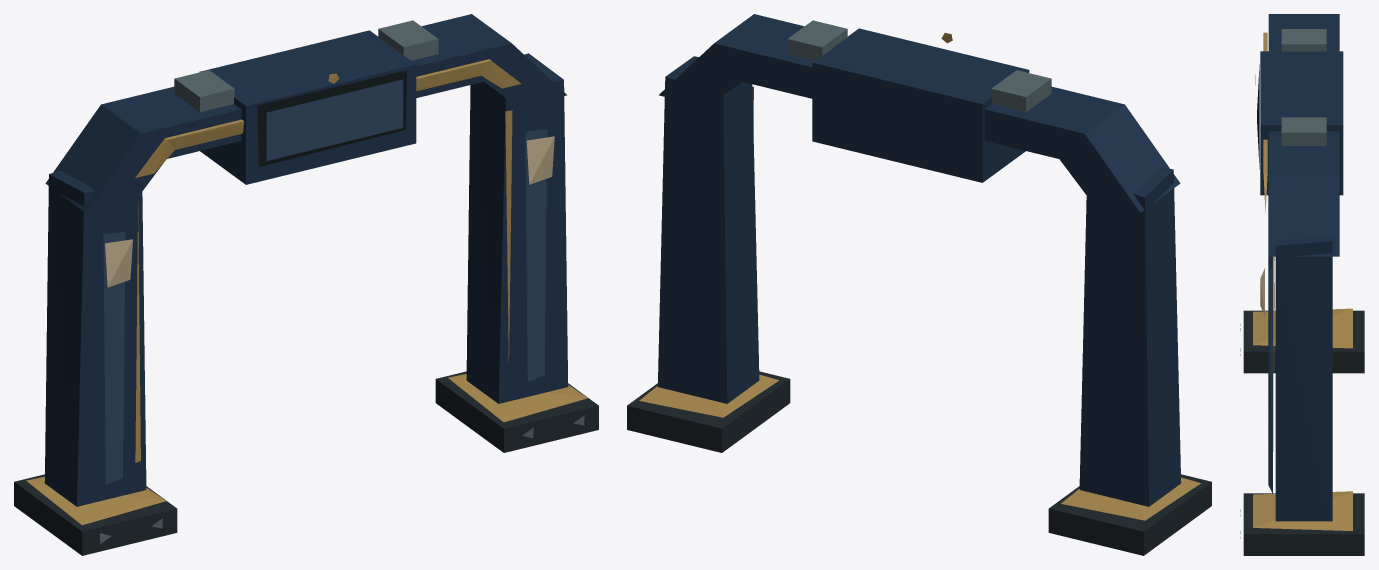
The model's file is LANDING_GATE_FRAME.shadow.glb.
3 renders of one model, left to right at view 1: azimuth 30°, elevation 25°; view 2: azimuth 150°, elevation 25°; view 3: azimuth 270°, elevation 25°, orthographic. The views are drawn at different scales.
Parts seen in each view (by area): view 1: Body_Mesh, SignSurface; view 2: Body_Mesh; view 3: Body_Mesh.
Boxes of the visible parts, x1,y1,x2,y2 form: Body_Mesh: (14,14,598,555); SignSurface: (266,79,403,160); Body_Mesh: (627,14,1211,555); Body_Mesh: (1240,14,1364,555).
Bounding box in the file's own units: 4.46 × 3.42 × 1.05.
